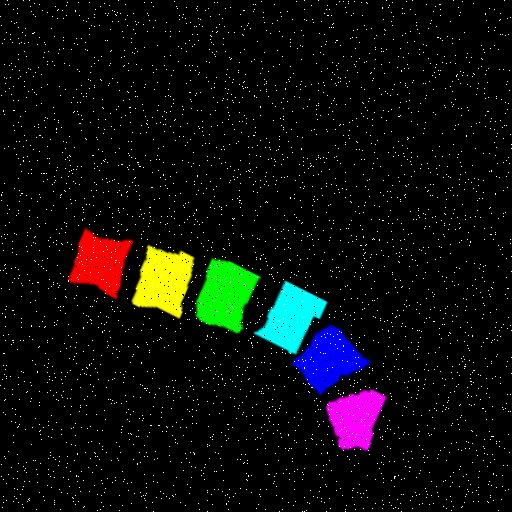L1: (72, 227, 135, 294)
L2: (136, 242, 196, 313)
L3: (200, 254, 263, 323)
L4: (258, 274, 329, 345)
L5: (295, 317, 371, 384)
S1: (329, 380, 392, 441)
